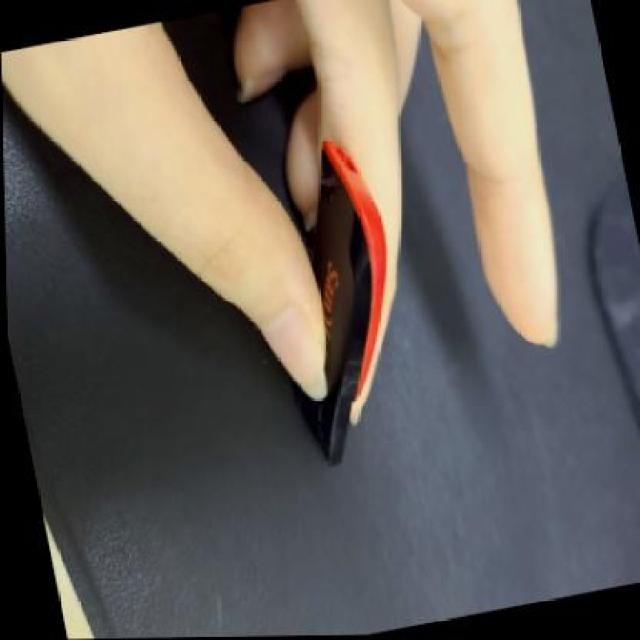Flashdisk: (245, 127, 427, 476)
